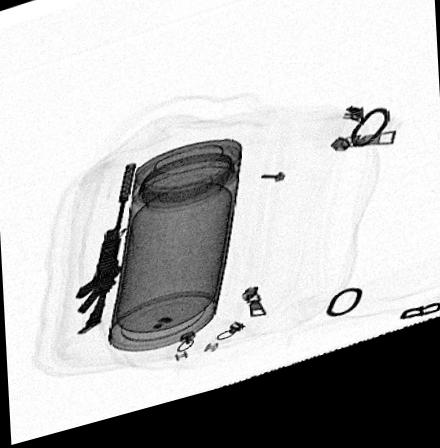Gun: (73, 170, 138, 341)
